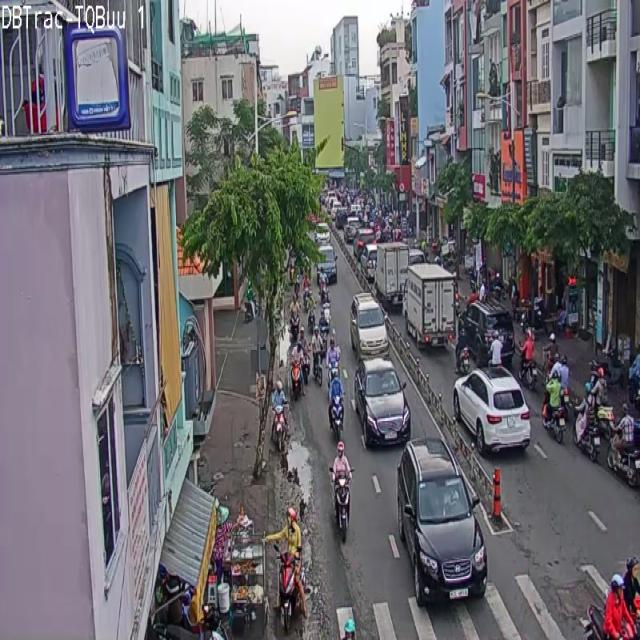car: (278, 540, 306, 630), (334, 478, 350, 540), (329, 370, 343, 435), (272, 407, 286, 451), (286, 508, 298, 535)
traffic-light: (398, 438, 487, 603), (454, 367, 530, 454), (354, 358, 410, 445), (350, 294, 388, 358)
